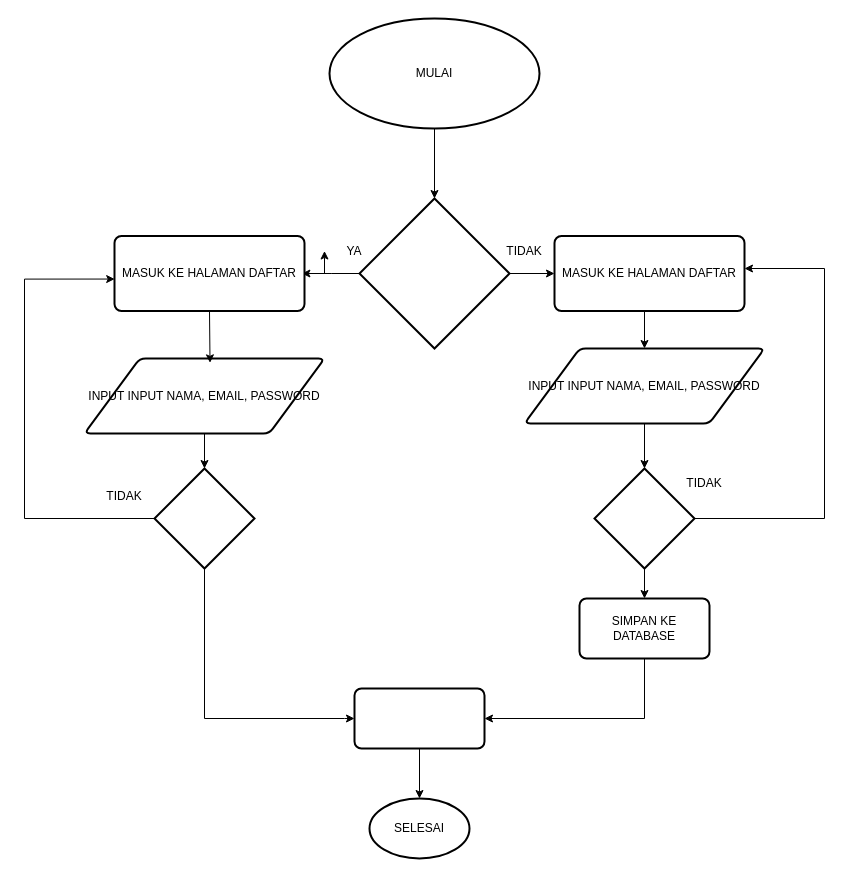
Image size: 850x876. Some labels were removed from this diagram. Each missing label, with the box of its shape:
DATA VALID?: (153, 467, 255, 569)
EMAIL TERSEDIA?: (593, 467, 695, 569)
MASUK KE HALAMAN UTAMA: (353, 687, 485, 749)
SUDAH PUNYA AKUN?: (358, 197, 510, 349)
